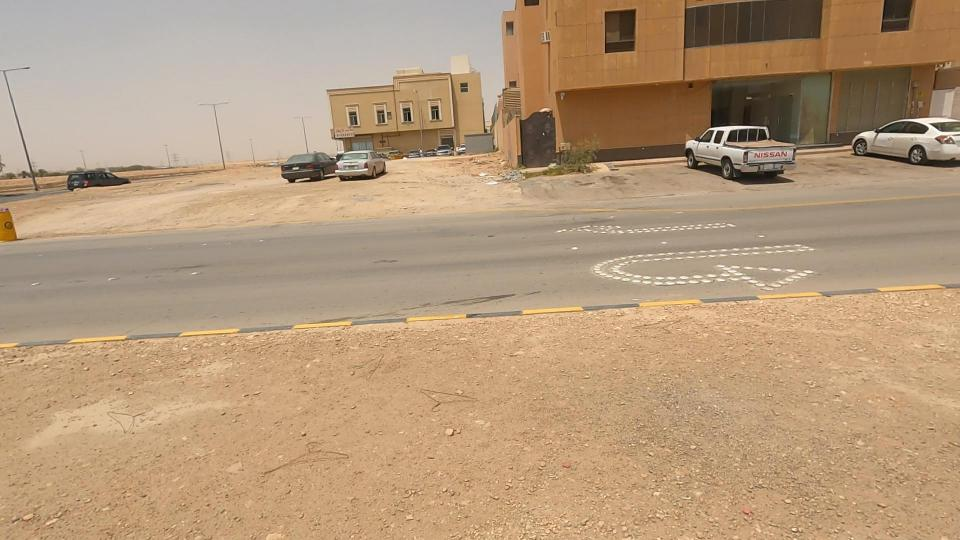GARBAGE: (457, 152, 548, 206)
